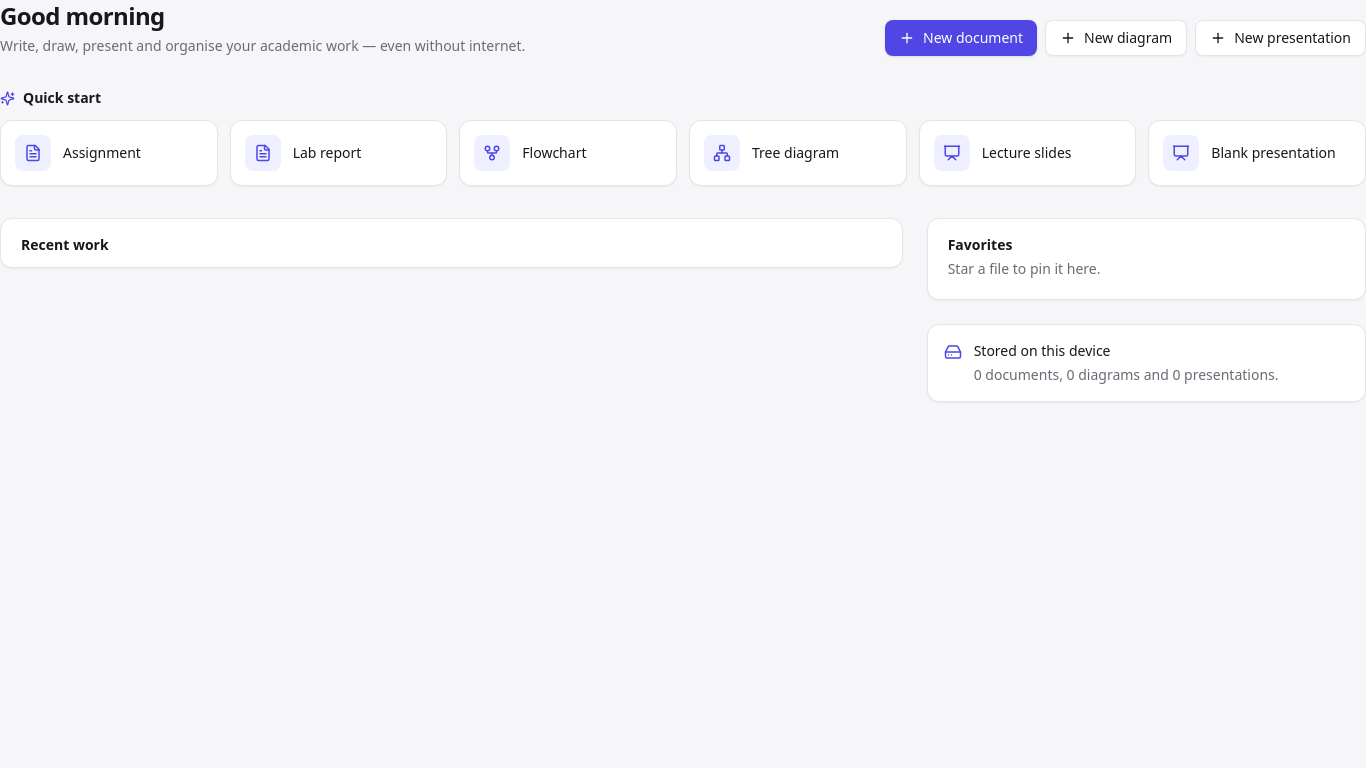
Test: Dashboard with presentations › “New presentation” opens the New dialog; its template creates “Untitled presentation” and opens it
Click the button "New presentation": (1281, 38) [1195,20,1365,56]
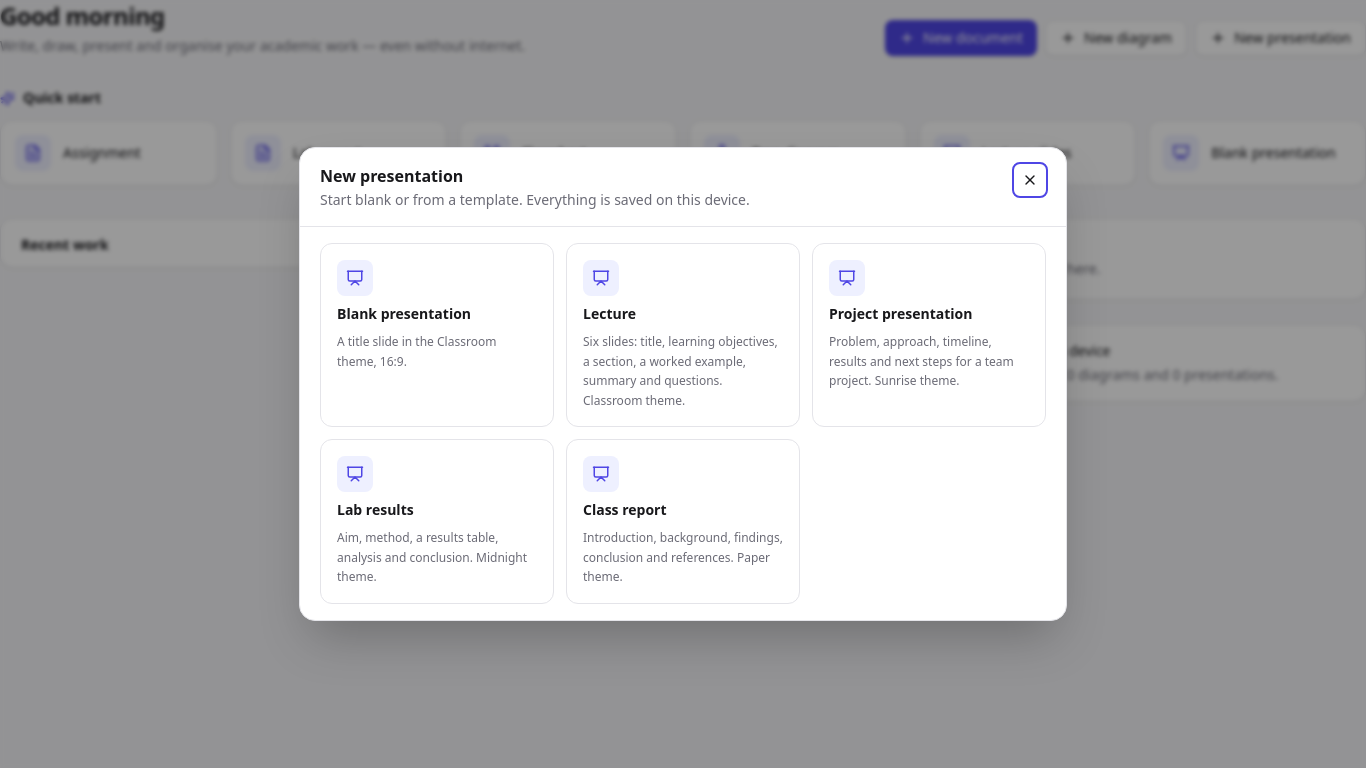
Check: the heading "New presentation" is shown, box [320,165,463,187]
Click the button "Blank presentation": (437, 335) [320,243,554,427]
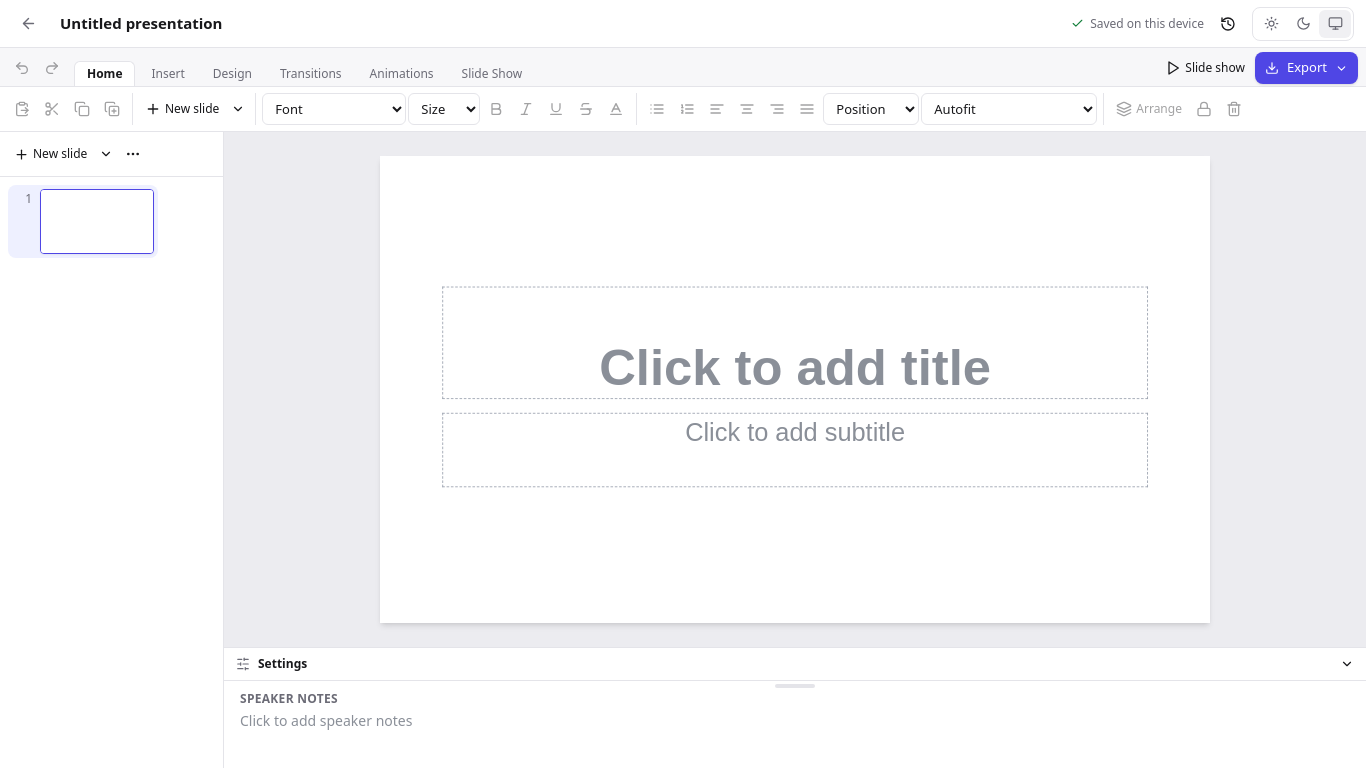
Check: the list named "Slides" is shown, box [8,185,158,258]
